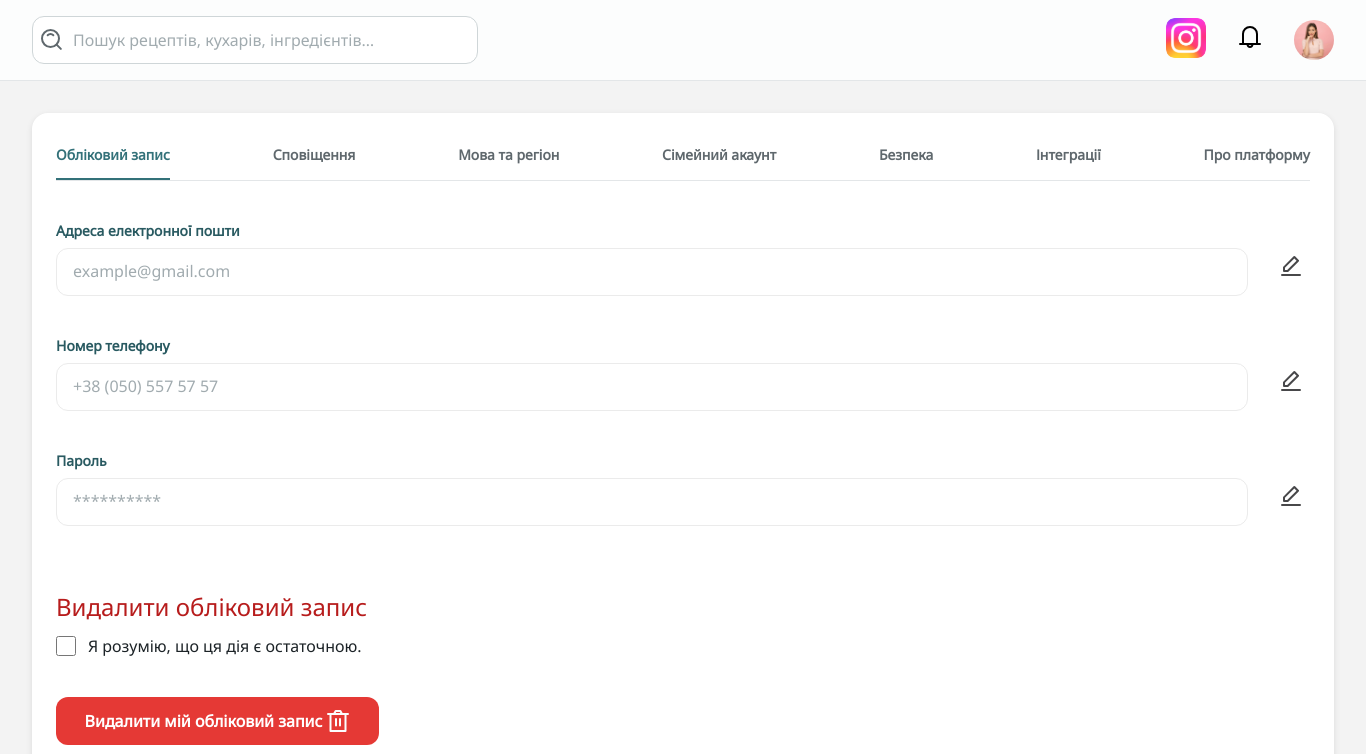
SettingsPage full tests › can add and remove a family member
Step 1. Click the list item "Сімейний акаунт" → (719, 154), box x1=662 y1=145 x2=776 y2=164
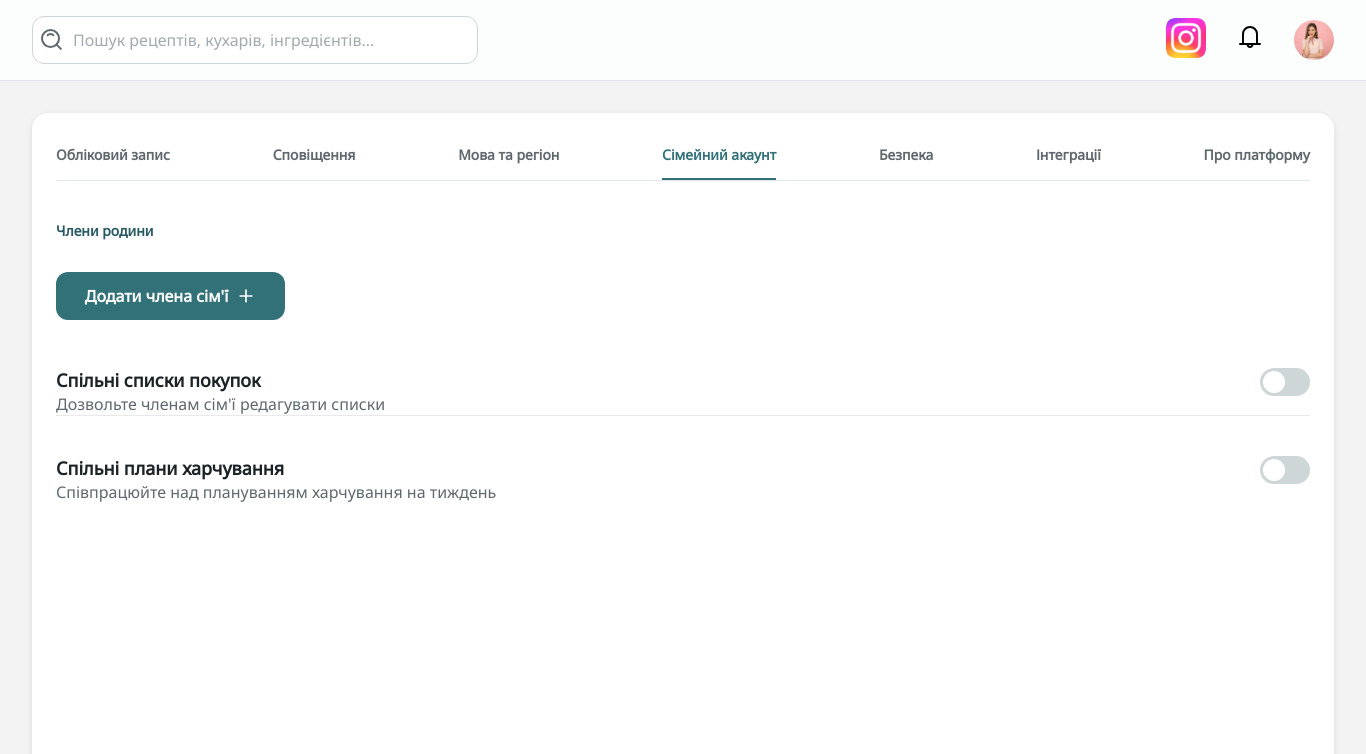
Step 2. Click the button "Додати члена сім'ї" → (170, 296), box x1=56 y1=272 x2=285 y2=320
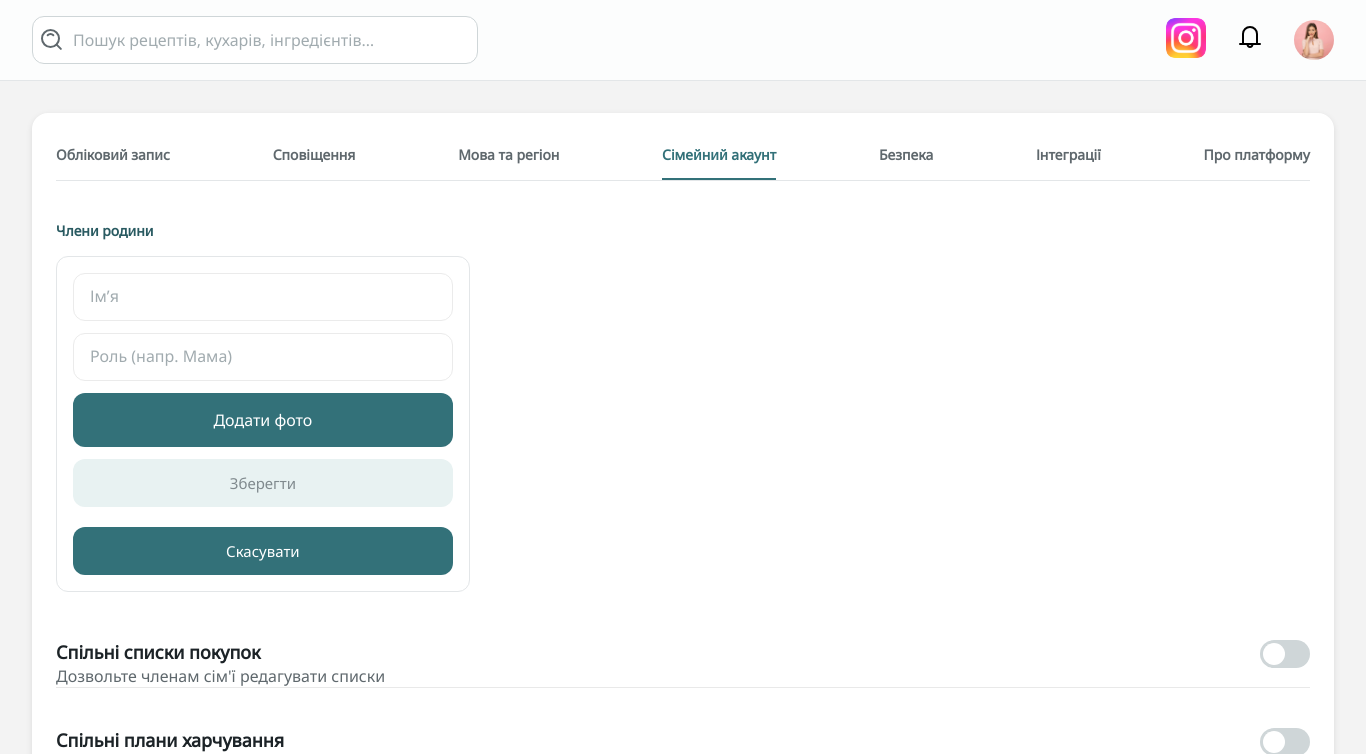
# Добавляем члена семьи
Step 3. Type "Іван" into the field with placeholder "Ім’я" → (263, 297), box x1=73 y1=273 x2=453 y2=321
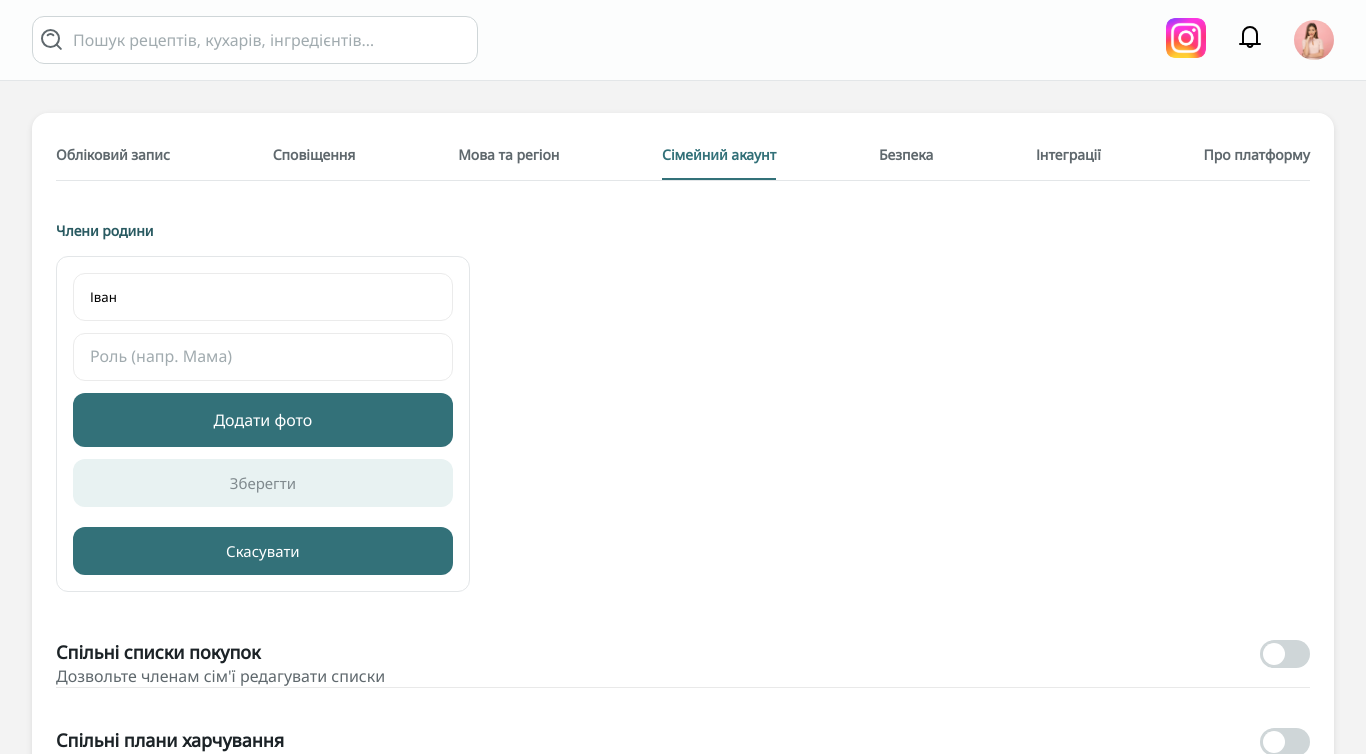
Step 4. Type "Батько" into the field with placeholder "Роль (напр. Мама)" → (263, 357), box x1=73 y1=333 x2=453 y2=381
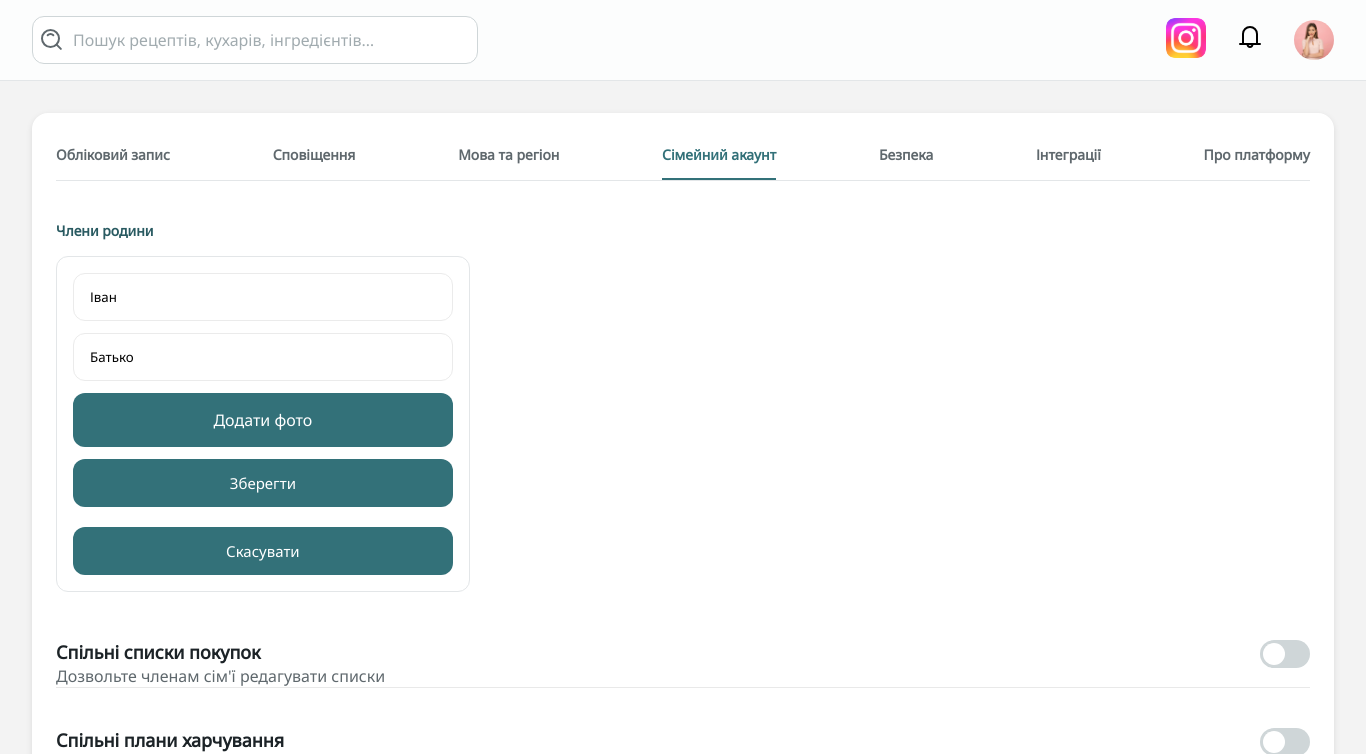
Step 5. Click the button "Зберегти" → (263, 483), box x1=73 y1=459 x2=453 y2=507
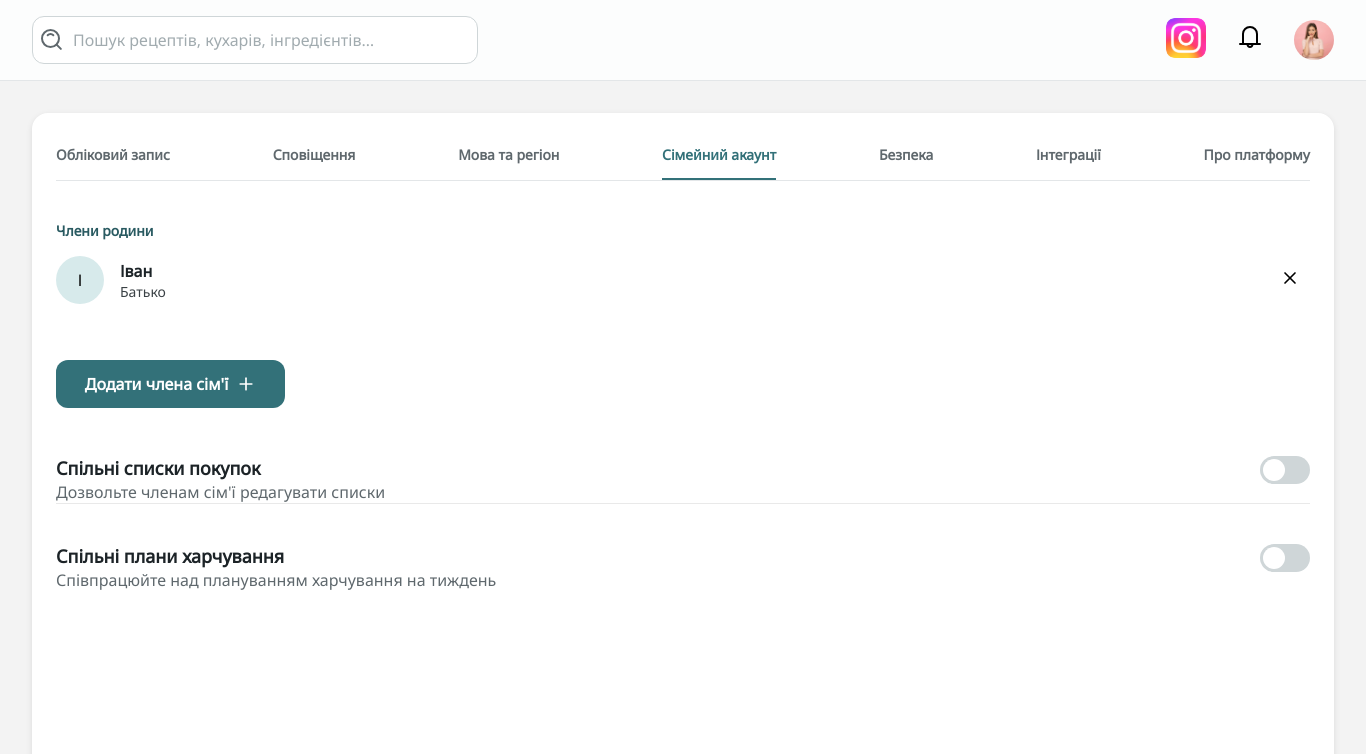
Now the text "Іван" is shown, box x1=120 y1=260 x2=152 y2=282
Now the text "Батько" is shown, box x1=120 y1=282 x2=166 y2=300
# Удаляем члена семьи через aria-label
Step 6. Click the button named "Remove Іван" → (1290, 280), box x1=1270 y1=260 x2=1310 y2=300
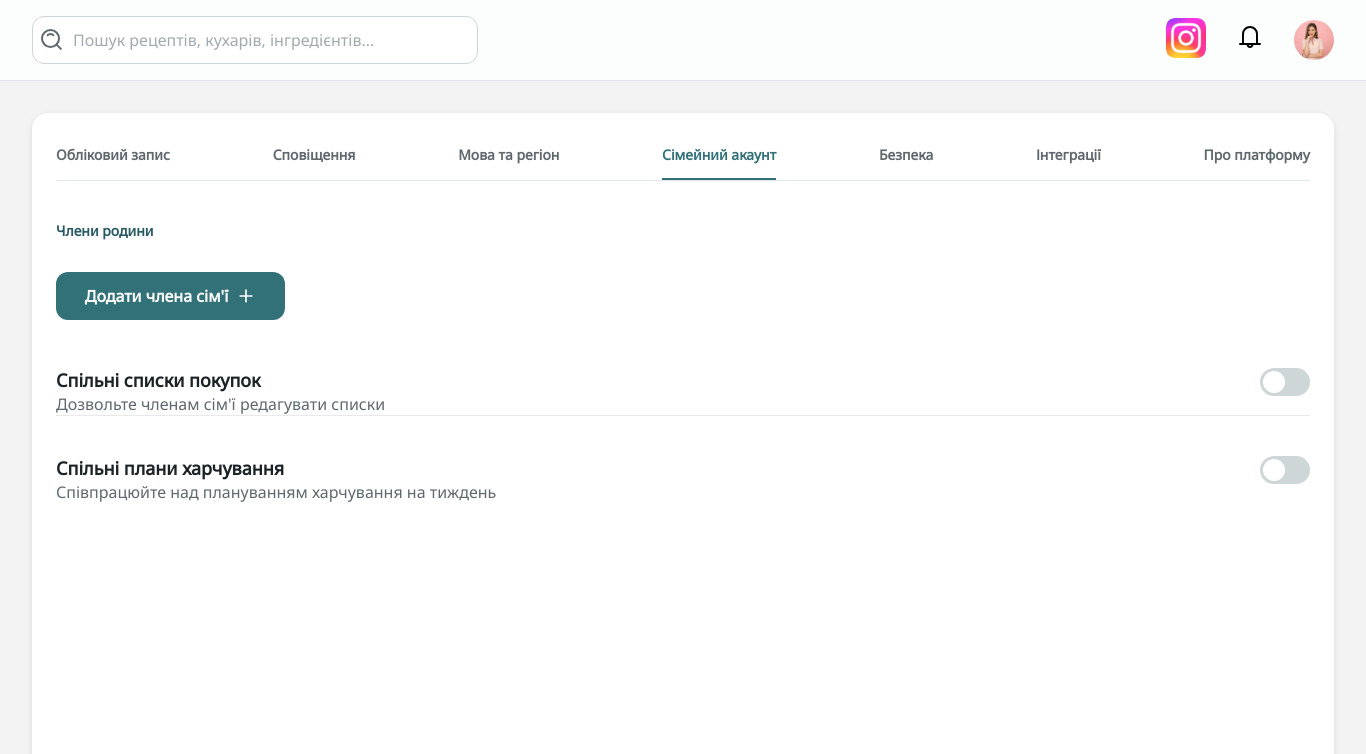
Now the text "Іван" is gone
